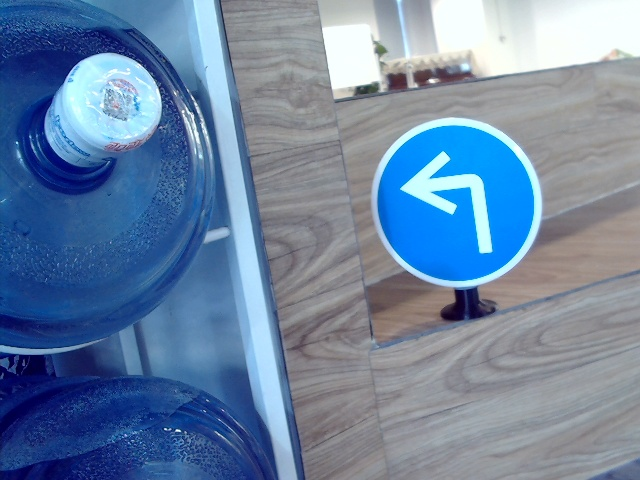turn_left: (403, 149, 500, 254)
